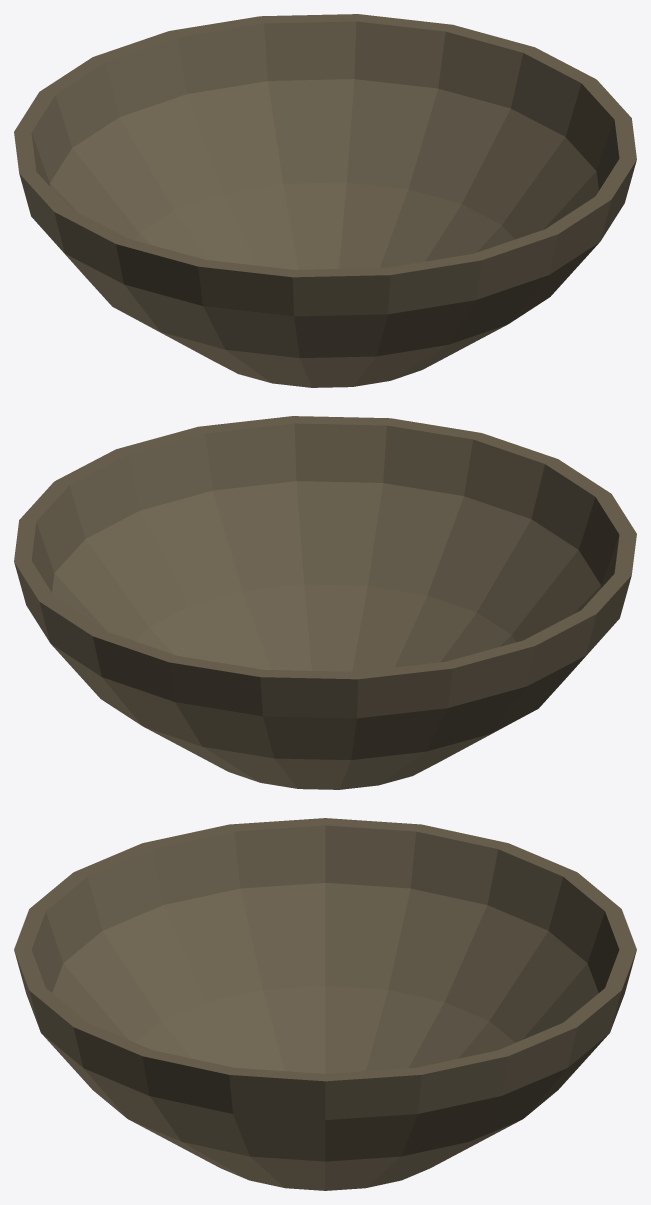
Rendered from bowl.fbx.
The picture shows the model from 3 angles, top to bottom: view 1: azimuth 30°, elevation 25°; view 2: azimuth 150°, elevation 25°; view 3: azimuth 270°, elevation 25°; orthographic projection.
Visible parts, largest first — view 1: pCylinder1; view 2: pCylinder1; view 3: pCylinder1.
Boxes of the visible parts, bbox=[...] form: pCylinder1: bbox=[14, 14, 636, 387]; pCylinder1: bbox=[14, 416, 636, 789]; pCylinder1: bbox=[14, 818, 636, 1190].
Bounding box in the file's own units: 8.15 × 2.69 × 8.15.
